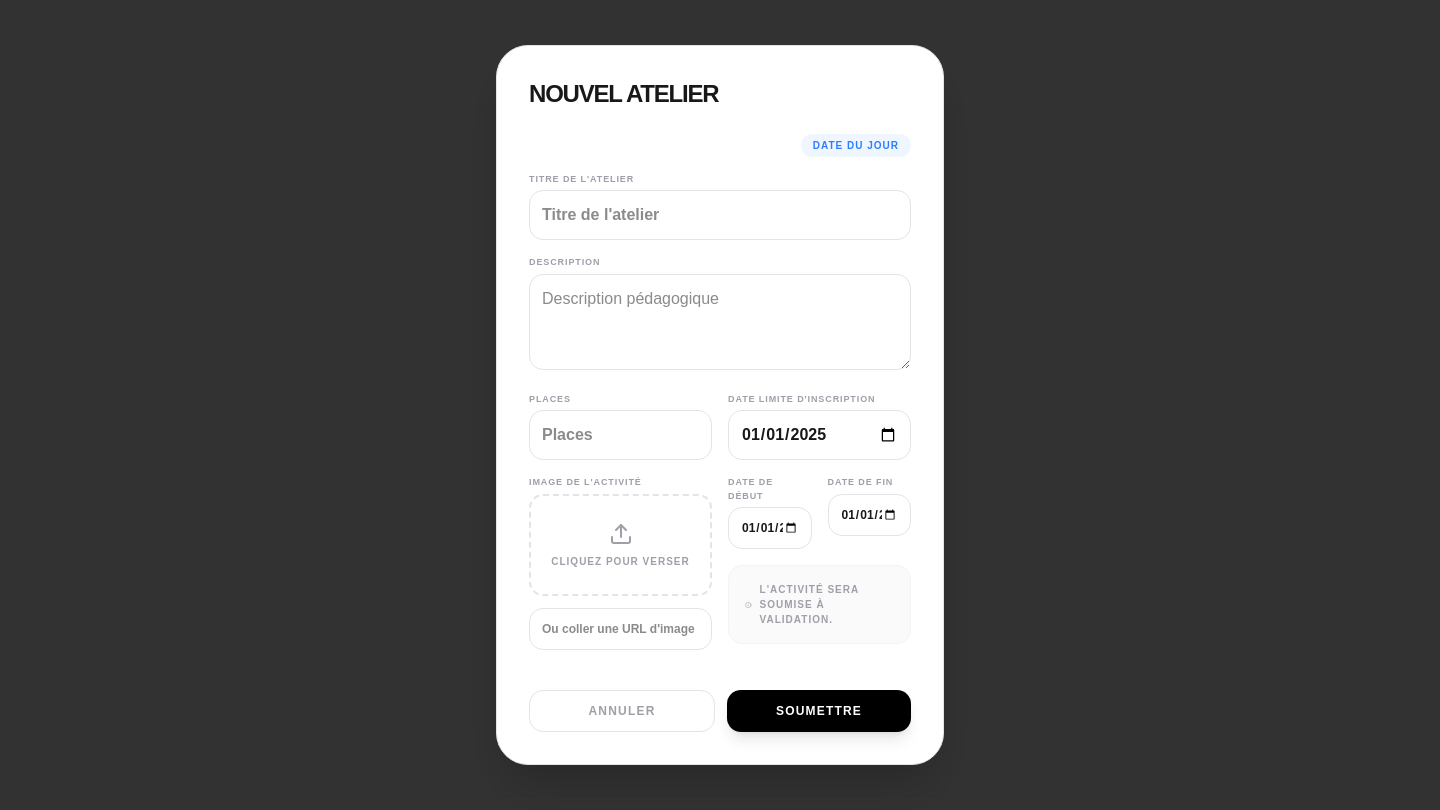
Test: ActivityFormModal › clicks on "Date du jour" to fill inputs
The width and height of the screenshot is (1440, 810).
Click the button "Date du jour".
click(856, 145)  # box x1=801 y1=134 x2=911 y2=156
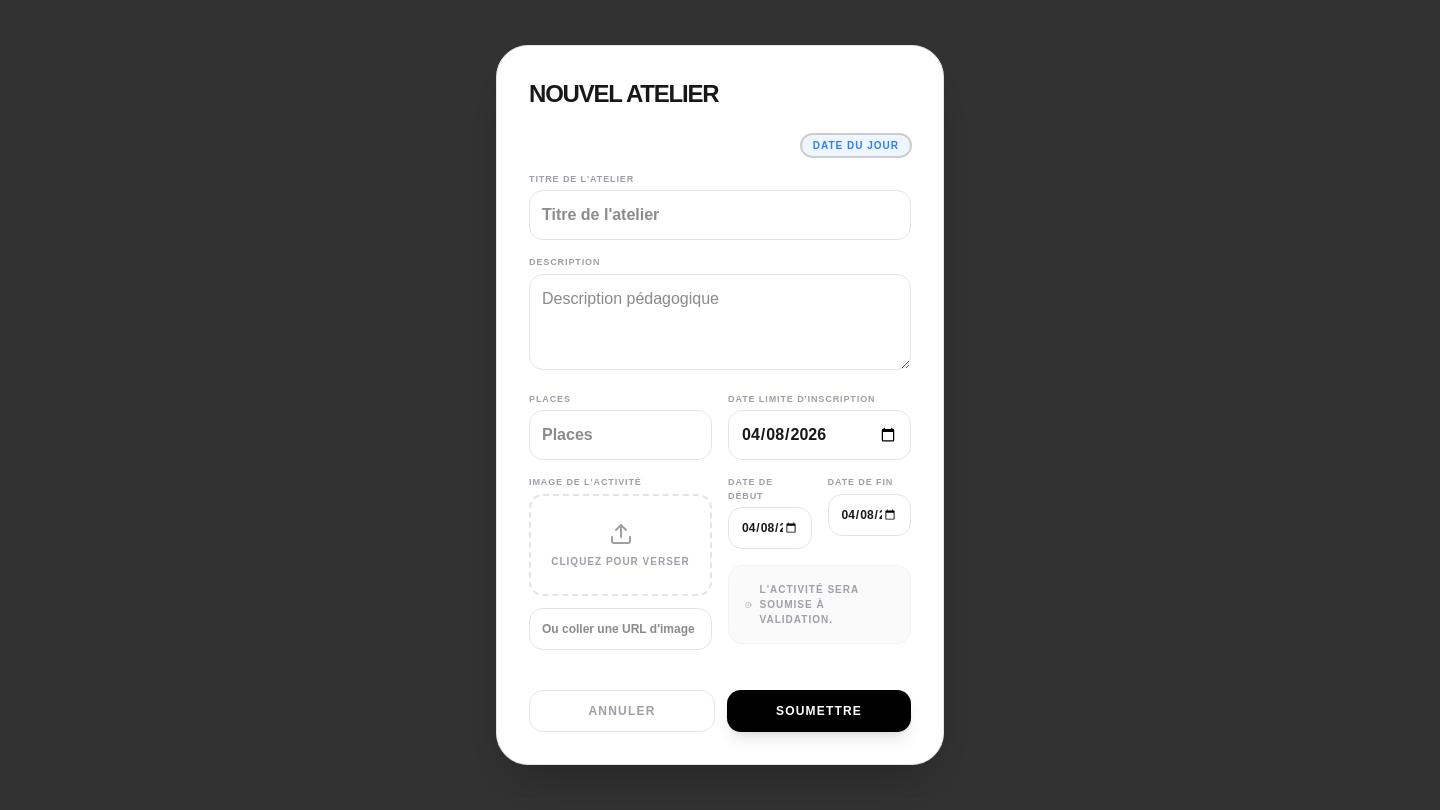
Result: the field named "start_time" below "Date de Début" is not empty at x1=728 y1=507 x2=812 y2=549
